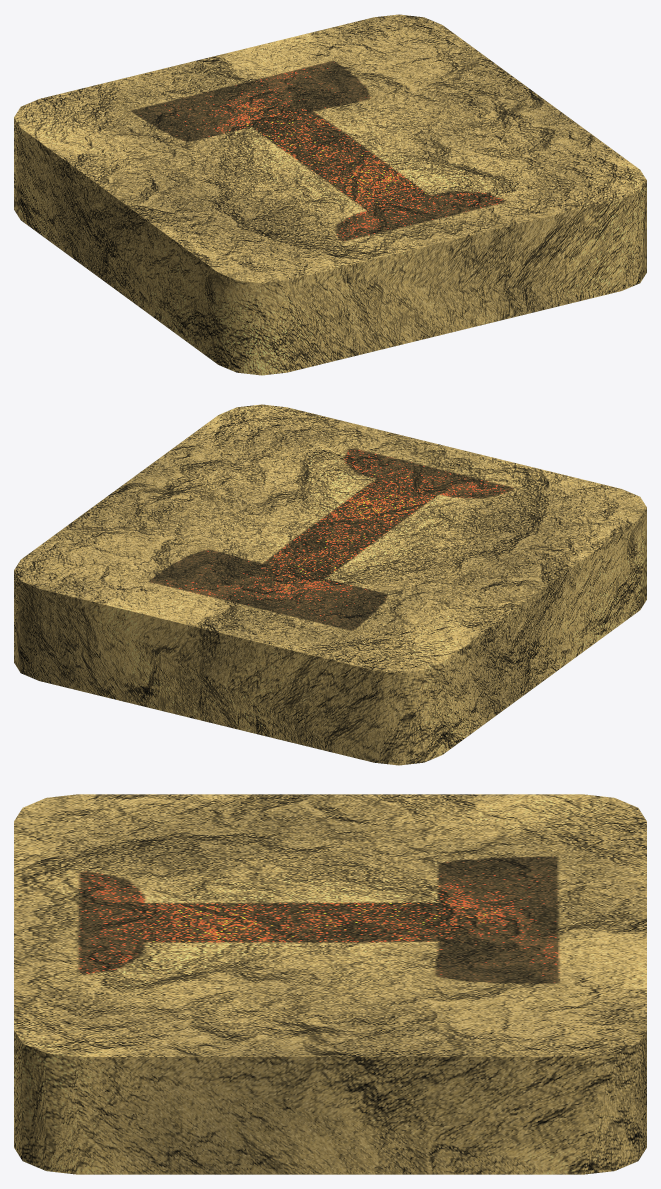
The model's file is Spec_tile.fbx.
The picture shows the model from 3 angles, top to bottom: view 1: azimuth 30°, elevation 25°; view 2: azimuth 150°, elevation 25°; view 3: azimuth 270°, elevation 25°; orthographic projection. The views are drawn at different scales.
Parts seen in each view (by area): view 1: pCube4; view 2: pCube4; view 3: pCube4.
Boxes of the visible parts, <box> form: pCube4: <box>14,14,646,375</box>; pCube4: <box>14,404,646,765</box>; pCube4: <box>14,794,646,1174</box>.
Size of the model in its own units: 2 by 0.4186 by 2.04.
Materials: 1 (1 with a texture image).
